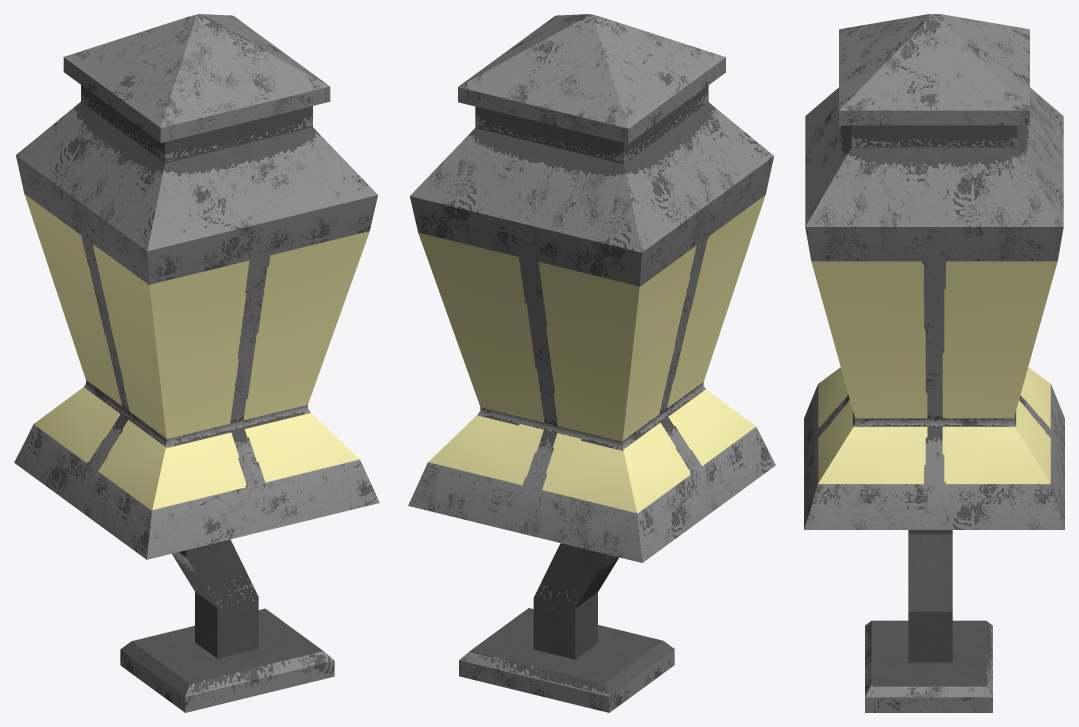
Rendered from HOS0810002.fbx.
3 views of the same model, side by side, from view 1: azimuth 30°, elevation 25°; view 2: azimuth 150°, elevation 25°; view 3: azimuth 270°, elevation 25° (orthographic). The views are drawn at different scales.
Parts seen in each view (by area): view 1: smHOS0810002; view 2: smHOS0810002; view 3: smHOS0810002.
Part boxes in pixels (x1=…): smHOS0810002: x1=14, y1=14, x2=379, y2=712; smHOS0810002: x1=408, y1=14, x2=775, y2=712; smHOS0810002: x1=804, y1=14, x2=1064, y2=712.
Bounding box in the file's own units: 25.61 × 69.14 × 25.25.
Materials: 1 (1 with a texture image).
